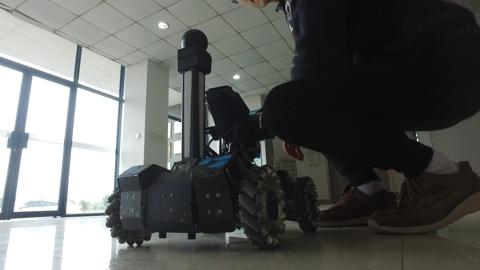chariot: (98, 29, 327, 256)
